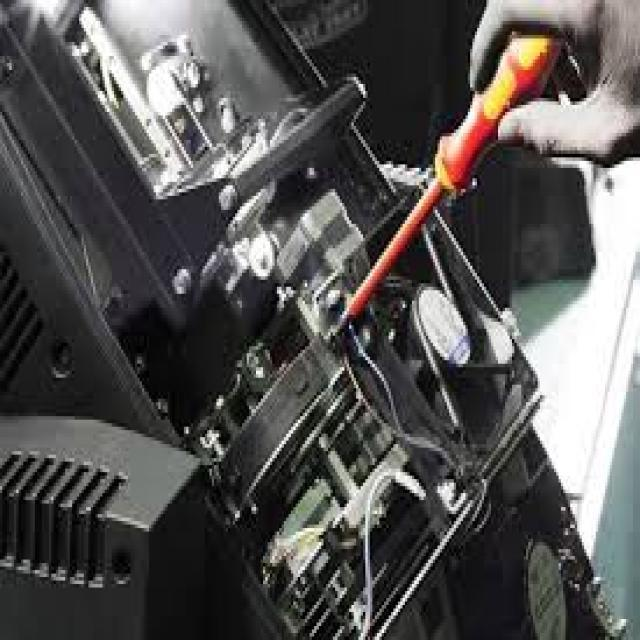screwdriver: (330, 22, 560, 344)
